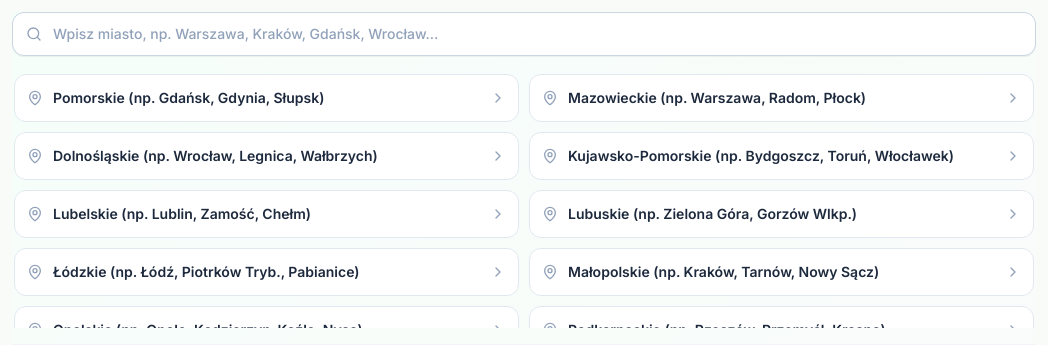
Test: OnboardingLocationStep - Real-Time City Mapping, Empty State & Selection › displays empty state when no city or voivodeship matches: "Nie znaleziono lokalizacji. Wybierz województwo ręcznie z listy."
In the field with test id "location-search": (524, 34) [12, 12, 1036, 56], type "Nowy Jork 12345"
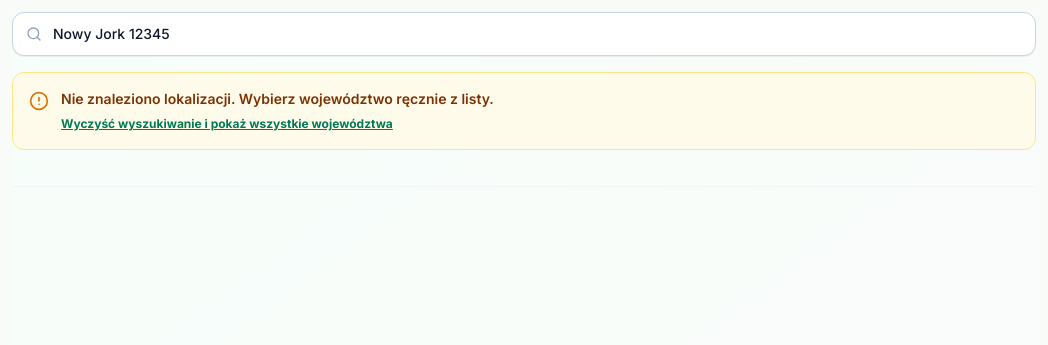
Result: the element with test id "location-empty-state" is shown at [12, 72, 1036, 150]
Result: the element with test id "location-empty-state" shows "Nie znaleziono lokalizacji. Wybierz województwo ręcznie z listy." at [61, 90, 494, 107]
